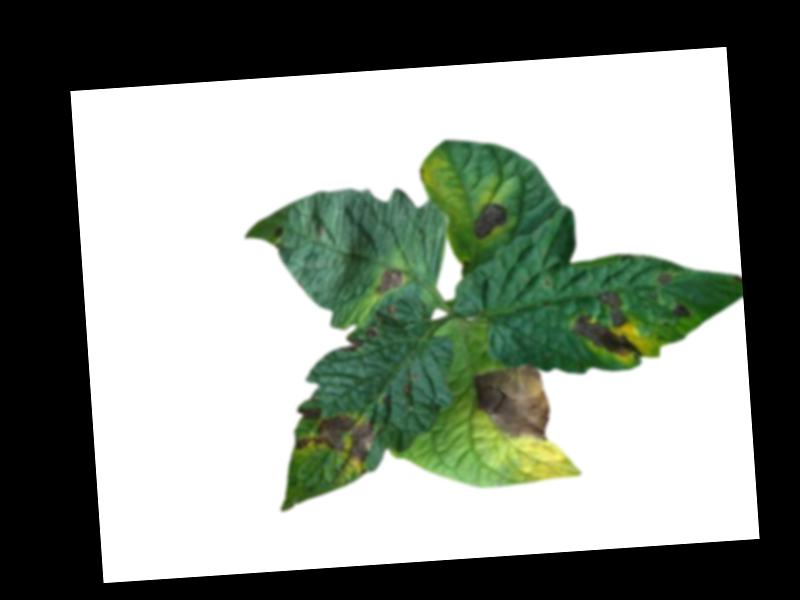Early_blight: (477, 362, 551, 445), (568, 289, 644, 362), (289, 411, 378, 467), (470, 200, 507, 240), (340, 325, 379, 352), (373, 265, 404, 292), (297, 402, 320, 421), (672, 302, 689, 319), (655, 271, 671, 284), (271, 226, 281, 237)
